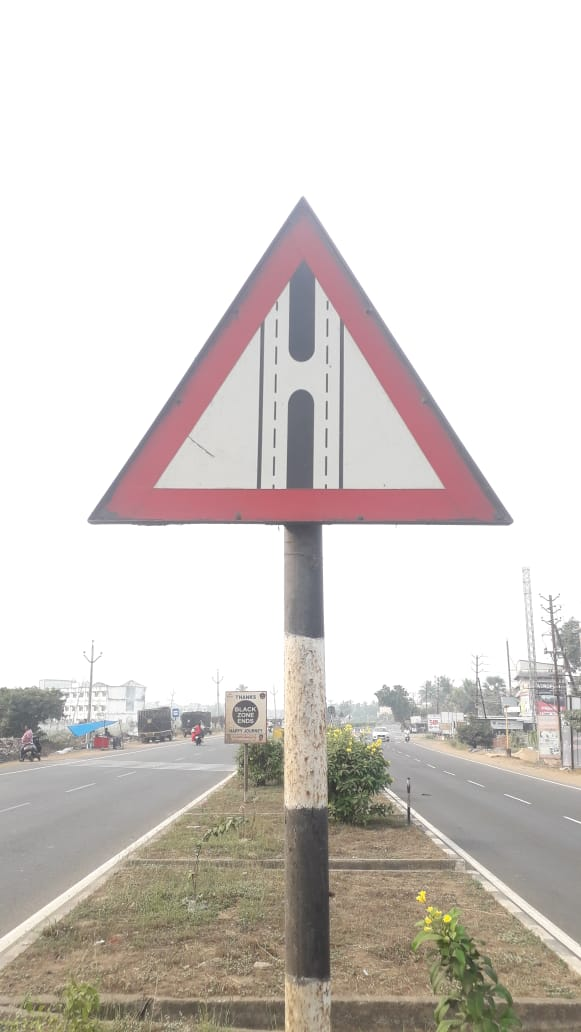highway go straight: (87, 194, 522, 581)
